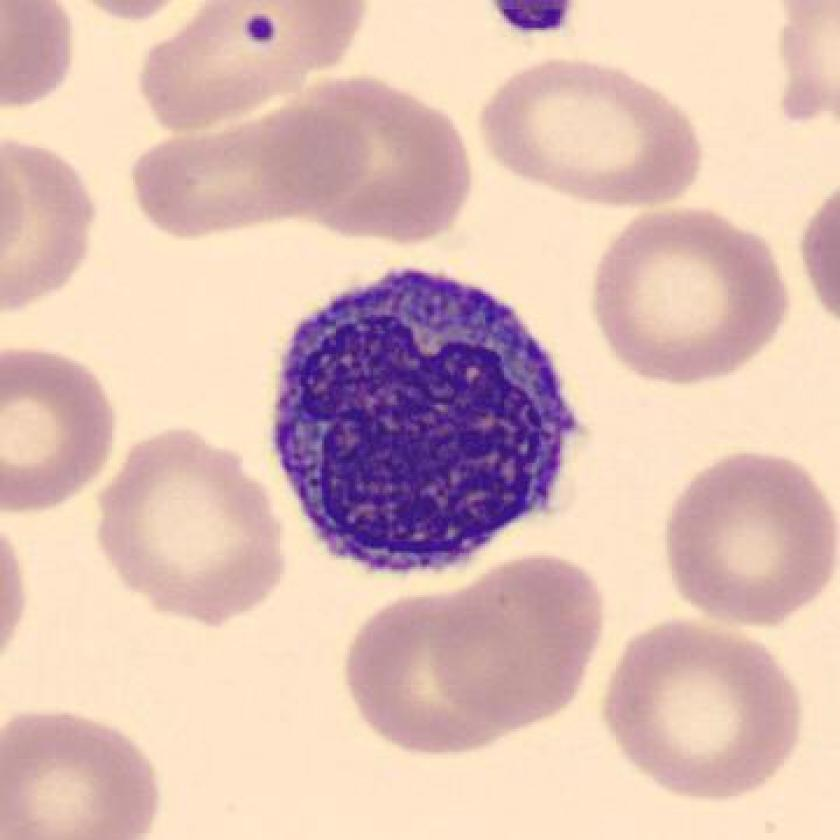monocyte: (256, 251, 592, 584)
